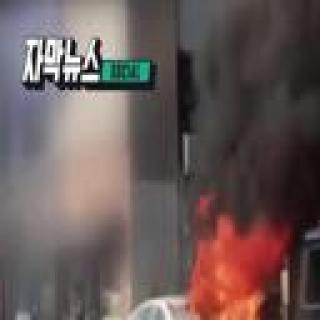fire: (193, 238, 269, 320)
